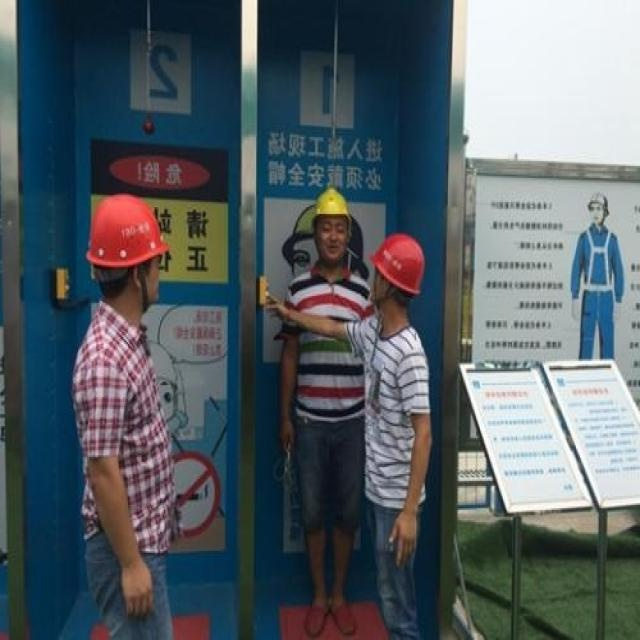Con_Casco: (89, 187, 166, 296), (373, 234, 427, 303), (311, 190, 350, 261)
Sin_Chaleco: (79, 320, 165, 547)
